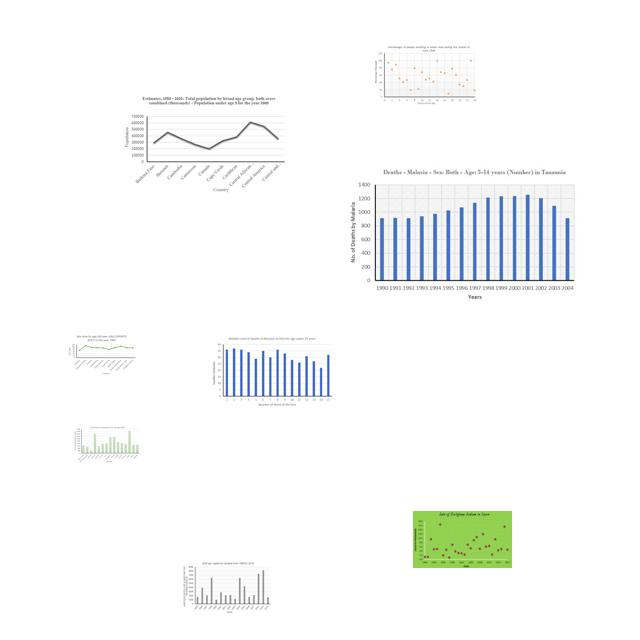Graph: (346, 163, 578, 301), (118, 94, 294, 194), (209, 335, 335, 410), (374, 44, 477, 105), (413, 511, 512, 568), (182, 561, 272, 614), (67, 333, 137, 376), (74, 426, 140, 463)
